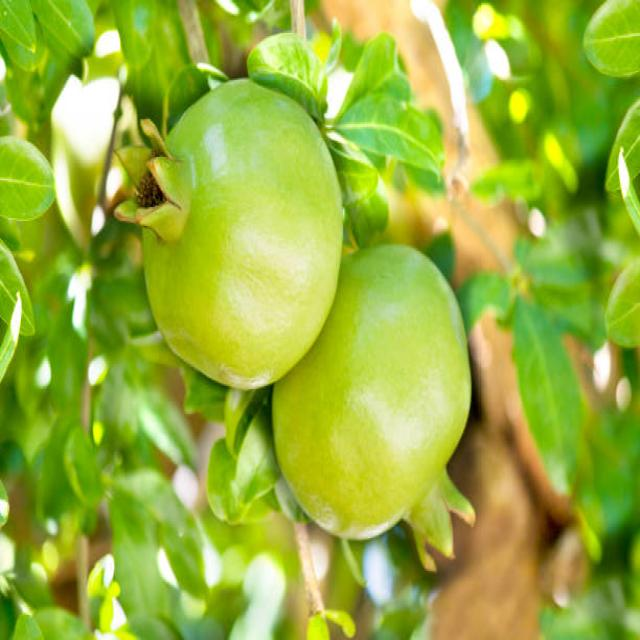Unripe: (112, 72, 341, 388), (274, 243, 476, 574)
